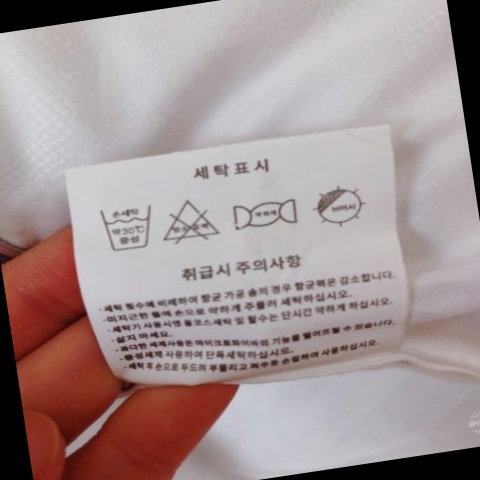dry_flat_in_shade: (310, 181, 370, 231)
hand_wash: (98, 199, 162, 256)
non_chlorine_bleach: (156, 190, 224, 248)
wring: (230, 195, 301, 234)
